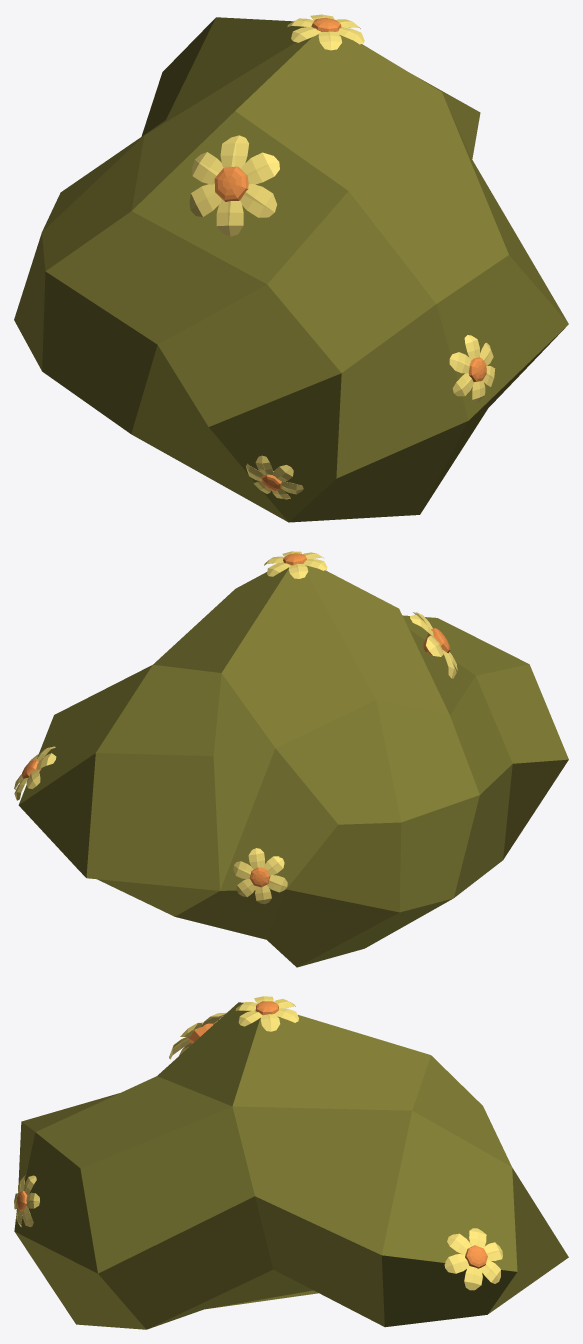
File: Bushes.fbx
The picture shows the model from 3 angles, top to bottom: view 1: azimuth 30°, elevation 25°; view 2: azimuth 150°, elevation 25°; view 3: azimuth 270°, elevation 25°; orthographic projection. The views are drawn at different scales.
Visible parts, largest first — view 1: Bushes; view 2: Bushes; view 3: Bushes.
Part boxes in pixels (x1=…): Bushes: x1=14, y1=14, x2=568, y2=522; Bushes: x1=14, y1=551, x2=568, y2=967; Bushes: x1=14, y1=996, x2=568, y2=1329.
Size of the model in its own units: 103 by 127 by 85.59.
